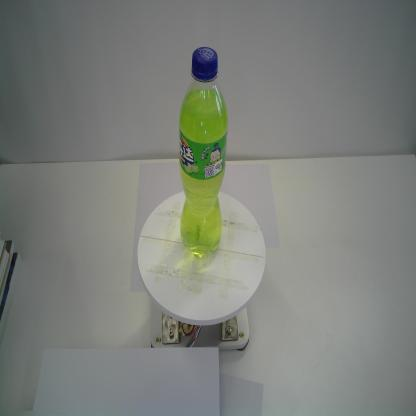Drink: (178, 45, 228, 259)
